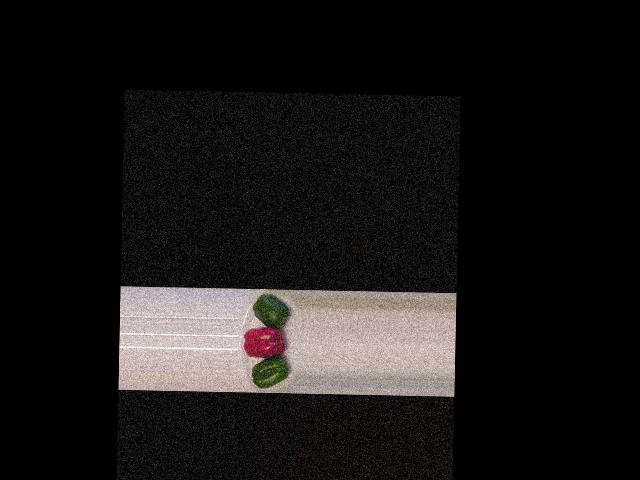bell_pepper: (248, 291, 293, 329)
